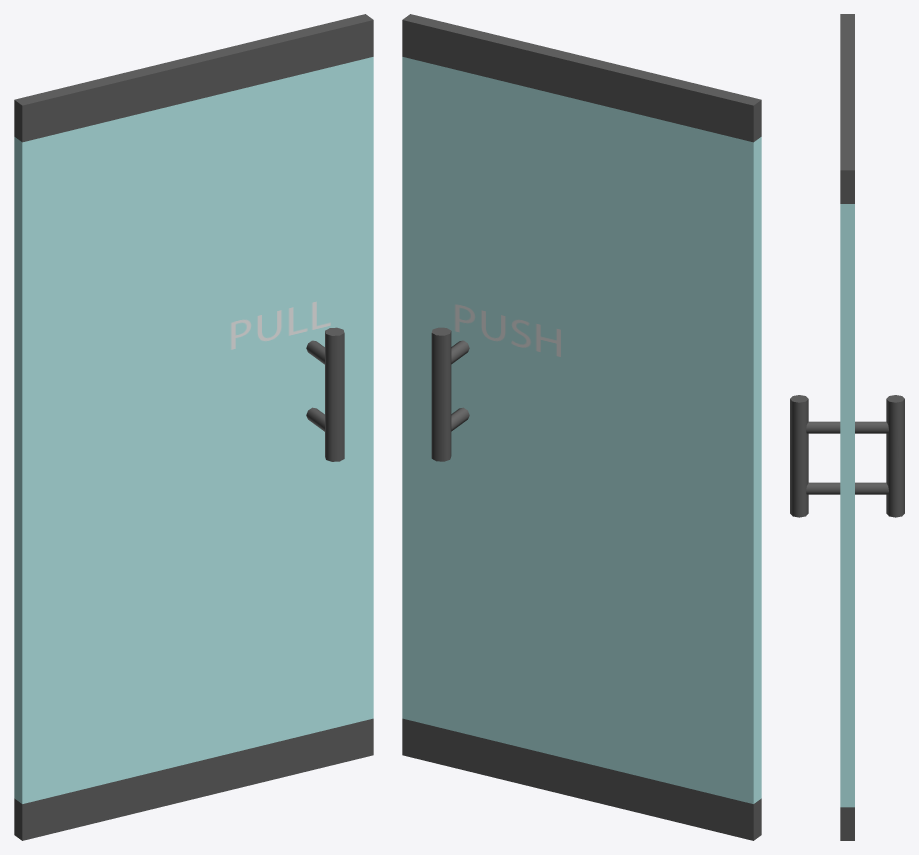
File: Door.fbx
3 views of the same model, side by side, from view 1: azimuth 30°, elevation 25°; view 2: azimuth 150°, elevation 25°; view 3: azimuth 270°, elevation 25° (orthographic). The views are drawn at different scales.
Parts seen in each view (by area): view 1: Cube_001, Cube; view 2: Cube_001, Cube; view 3: Cube, Cube_001.
Part boxes in pixels (bbox=[...]): Cube_001: bbox=[14, 57, 373, 803]; Cube: bbox=[14, 14, 373, 840]; Cube_001: bbox=[402, 57, 761, 803]; Cube: bbox=[402, 14, 761, 840]; Cube: bbox=[790, 14, 904, 840]; Cube_001: bbox=[840, 204, 854, 807].
Size of the model in its own units: 1 by 2 by 0.3104.
